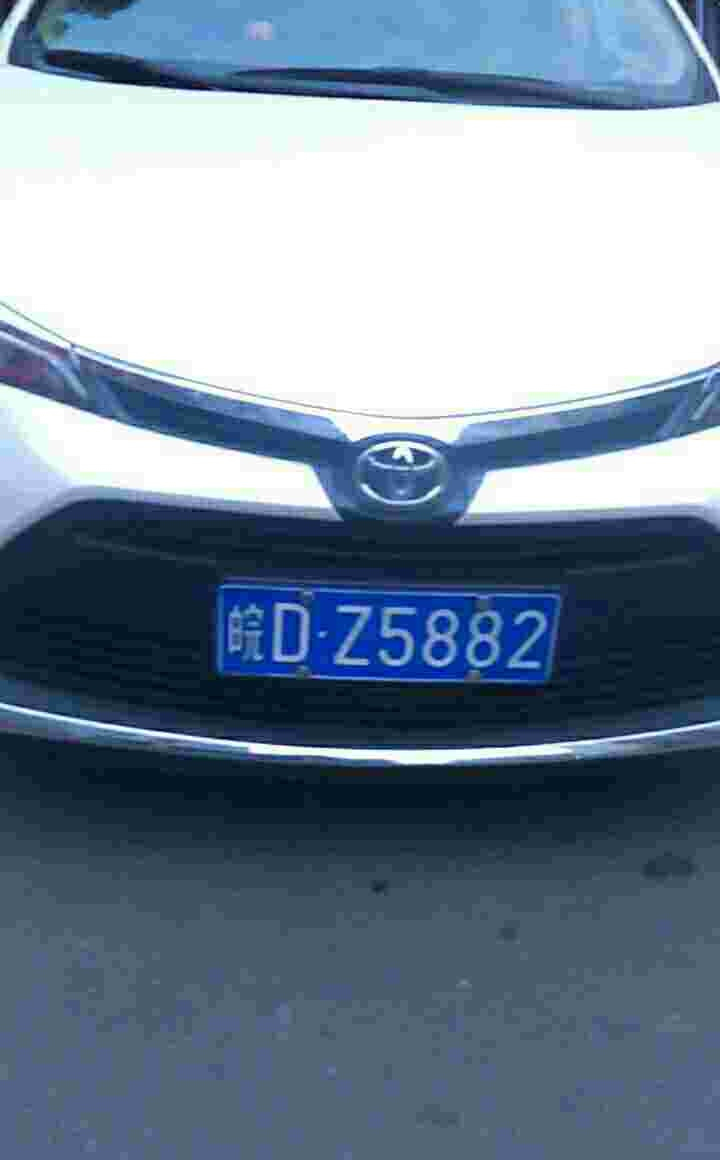license_plate: (225, 584, 567, 674)
